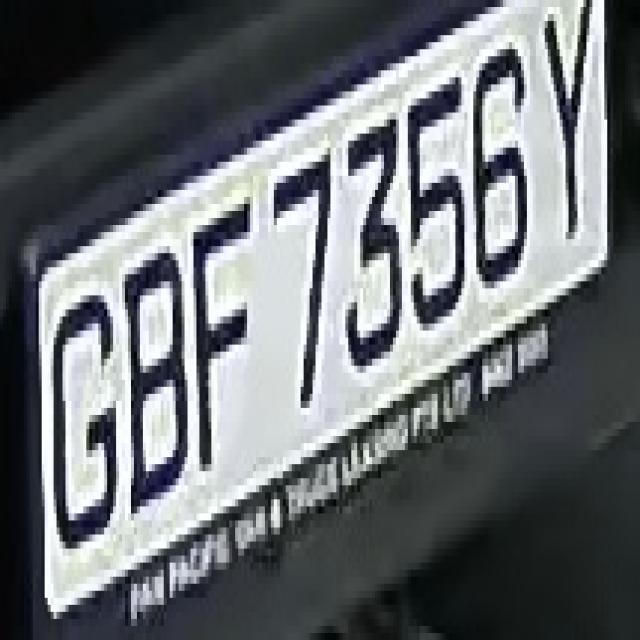3: (339, 84, 411, 401)
5: (405, 56, 476, 352)
6: (464, 0, 532, 309)
7: (262, 134, 339, 450)
B: (125, 225, 188, 520)
F: (190, 176, 265, 492)
G: (42, 274, 125, 577)
Y: (538, 0, 613, 267)
